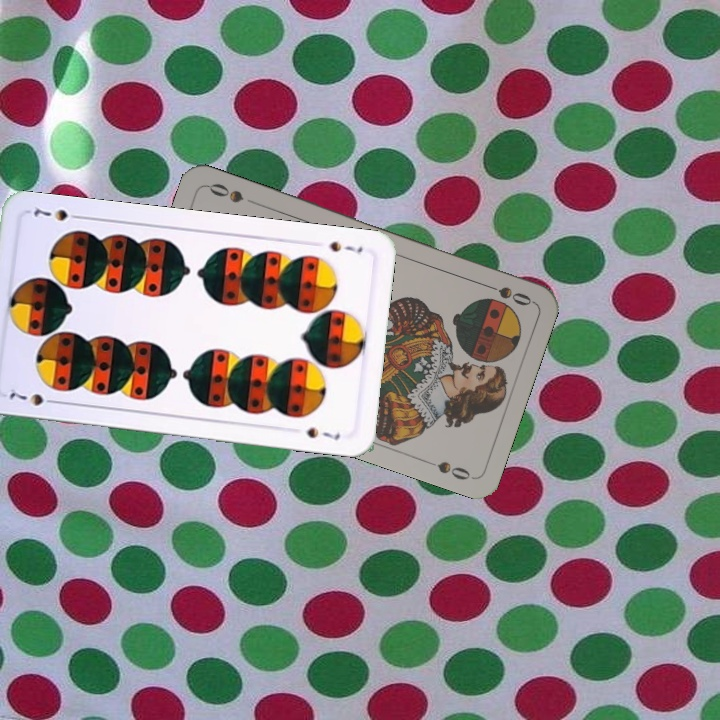S7: (2, 384, 61, 409), (326, 237, 365, 257)
SO: (477, 278, 535, 309)
